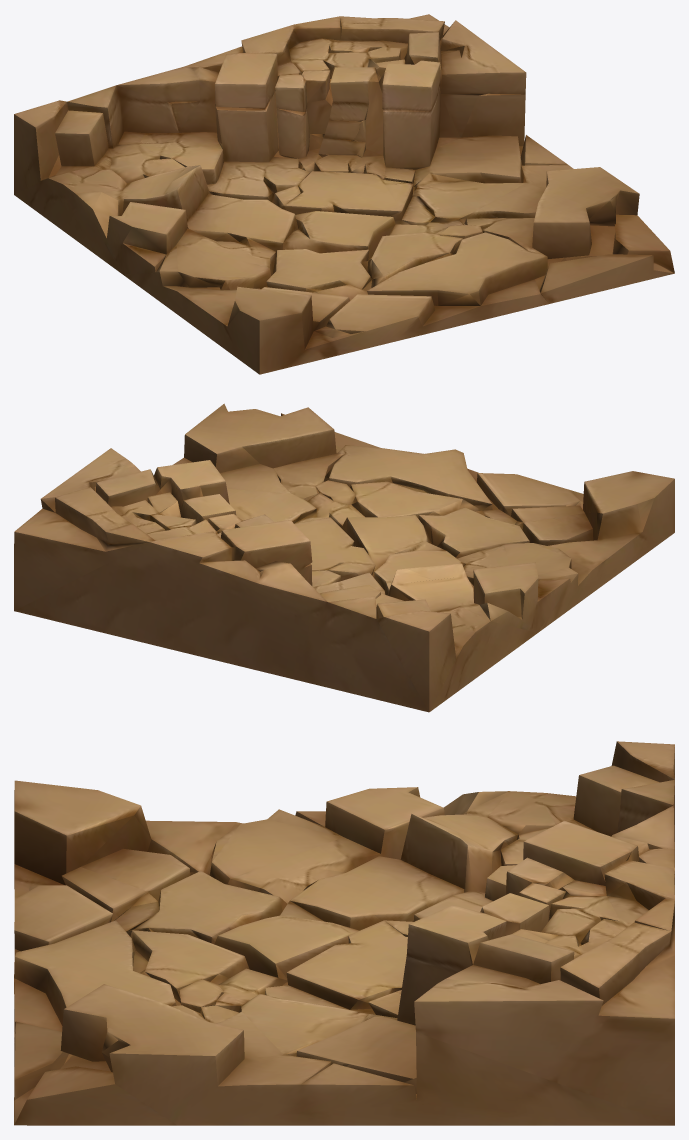
Rendered from m2BrokenTile.glb.
3 renders of one model, top to bottom at view 1: azimuth 30°, elevation 25°; view 2: azimuth 150°, elevation 25°; view 3: azimuth 270°, elevation 25°, orthographic. The views are drawn at different scales.
Parts seen in each view (by area): view 1: model; view 2: model; view 3: model.
Part boxes in pixels (left/top/right/bottom): model: left=14, top=14, right=674, bottom=374; model: left=14, top=403, right=674, bottom=712; model: left=14, top=741, right=674, bottom=1125.
Size of the model in its own units: 1.85 by 0.4447 by 1.89.
1 material, 1 textured.
